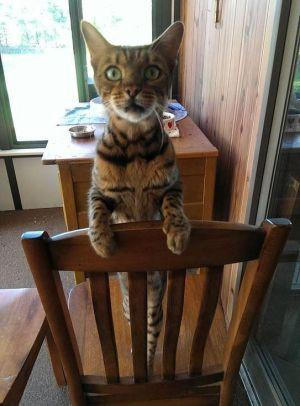bengal: (74, 18, 194, 131)
